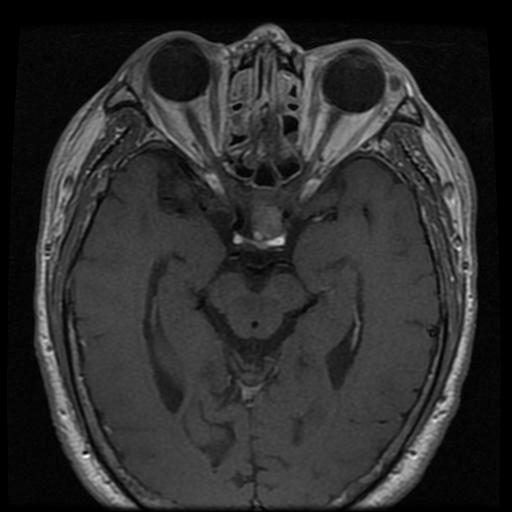Tumour-Pituitary: (235, 205, 281, 254)
